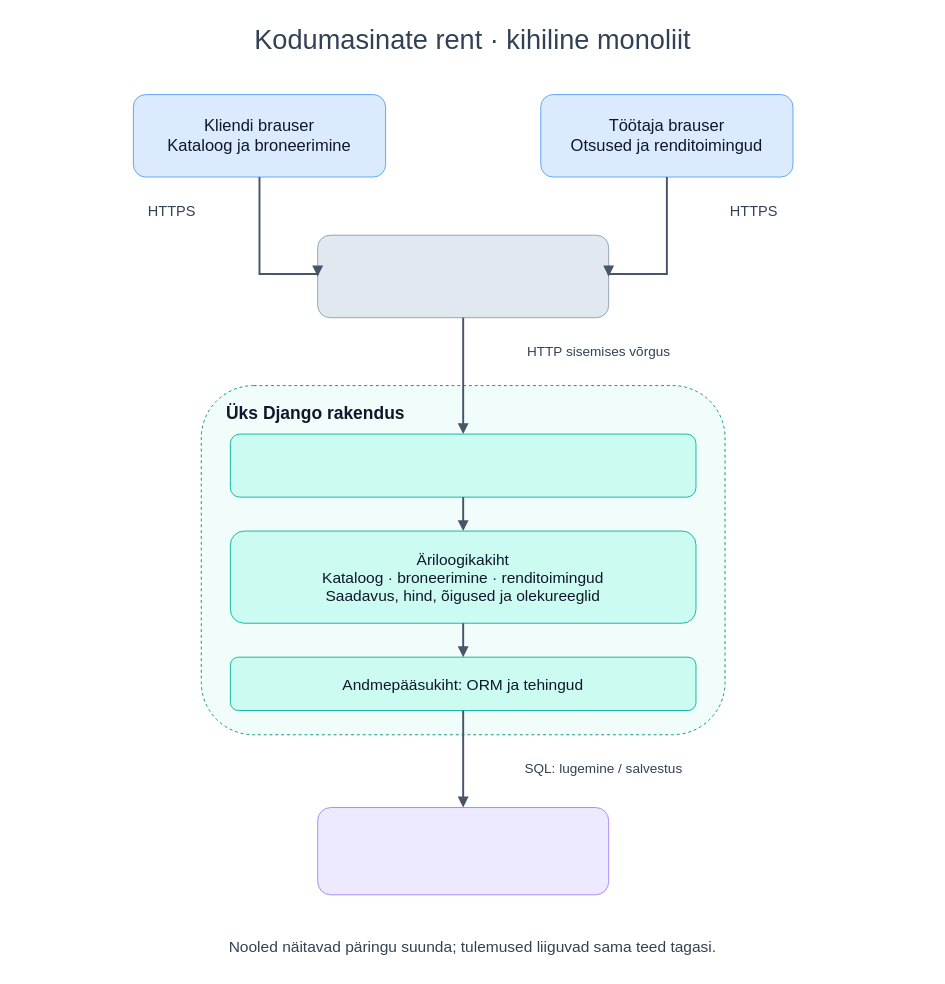
Some shapes in this 945 by 984 pixel diagram are drawn without their labels. The centre of each missing label's shape, as x and y in pixels:
Esitluskiht: vaated, vormid ja HTML-mallid: the point at 462,465
HTTPS pöördproksi Päringute suunamine: the point at 463,276
PostgreSQL Seadmed, kasutajad, broneeringud Sündmuste ajalugu: the point at 463,851
